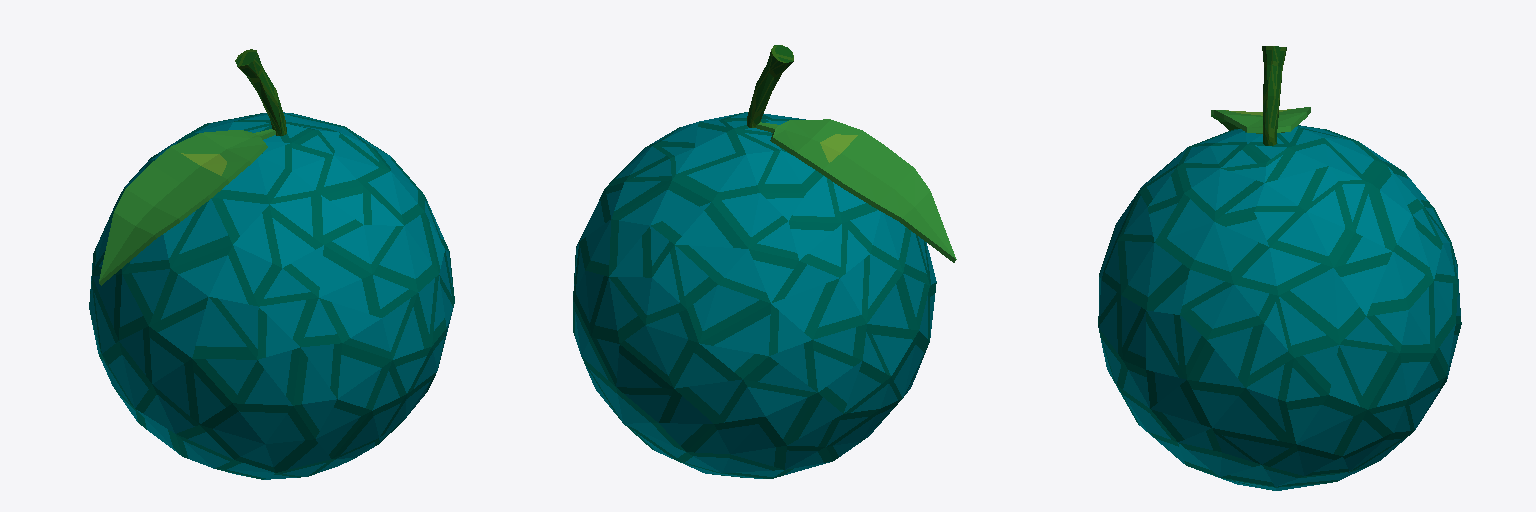
3 views of the same model, side by side, from view 1: azimuth 30°, elevation 25°; view 2: azimuth 150°, elevation 25°; view 3: azimuth 270°, elevation 25° (orthographic).
Parts seen in each view (by area): view 1: Sphere.001; view 2: Sphere.001; view 3: Sphere.001.
Boxes of the visible parts, box(x1,y1,x2,y2) form: Sphere.001: box(89, 49, 454, 479); Sphere.001: box(573, 45, 956, 478); Sphere.001: box(1098, 46, 1461, 490).
Size of the model in its own units: 0.7884 by 0.9085 by 0.717.
Materials: 1 (1 with a texture image).